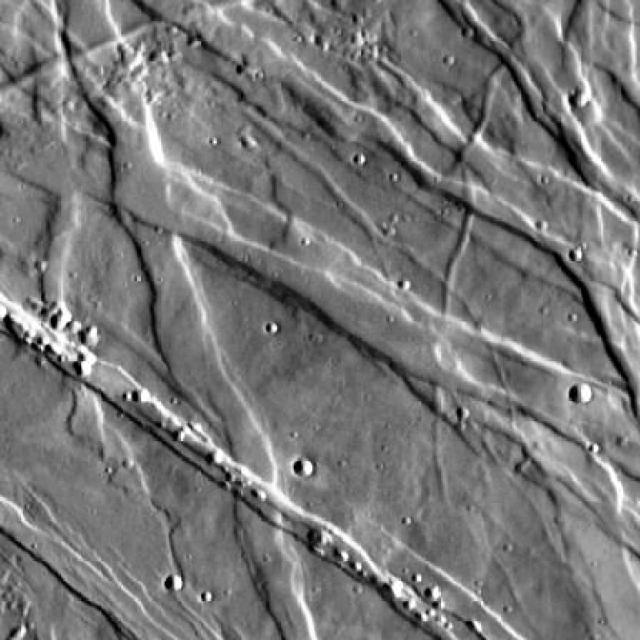crater: (570, 384, 592, 405), (294, 456, 314, 475), (0, 127, 12, 150), (163, 576, 180, 592), (570, 91, 588, 106)
